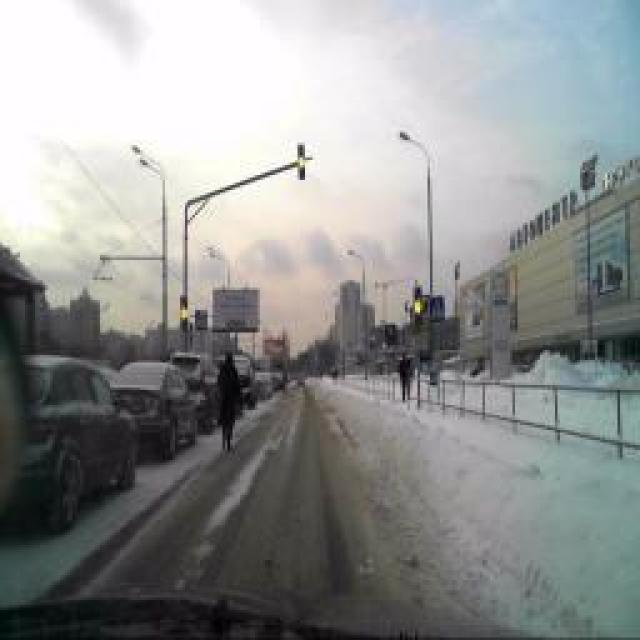sign: (430, 292, 445, 322), (196, 309, 206, 331)
